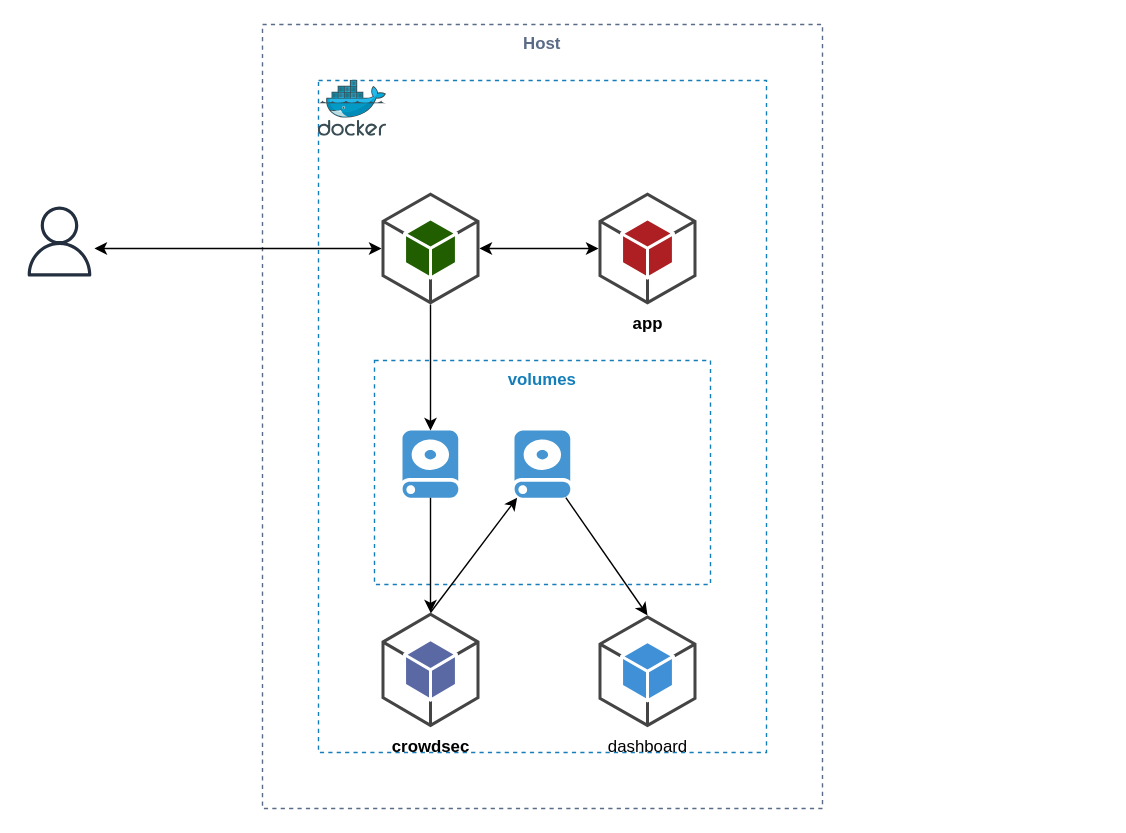
Some shapes in this 1126 by 833 pixel diagram are drawn without their labels. The shapes that lost their labels are listed below. From the top down, each one's centre as x and y in pixels, then its label:
the point at 429,247: reverse-proxy
the point at 430,463: logs
the point at 542,463: crowdsec-db
